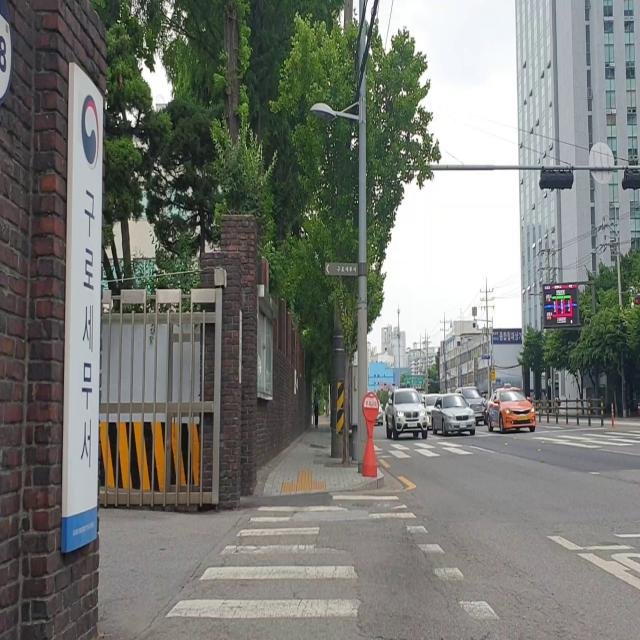횡단보도: (164, 503, 503, 623), (374, 426, 640, 461)
